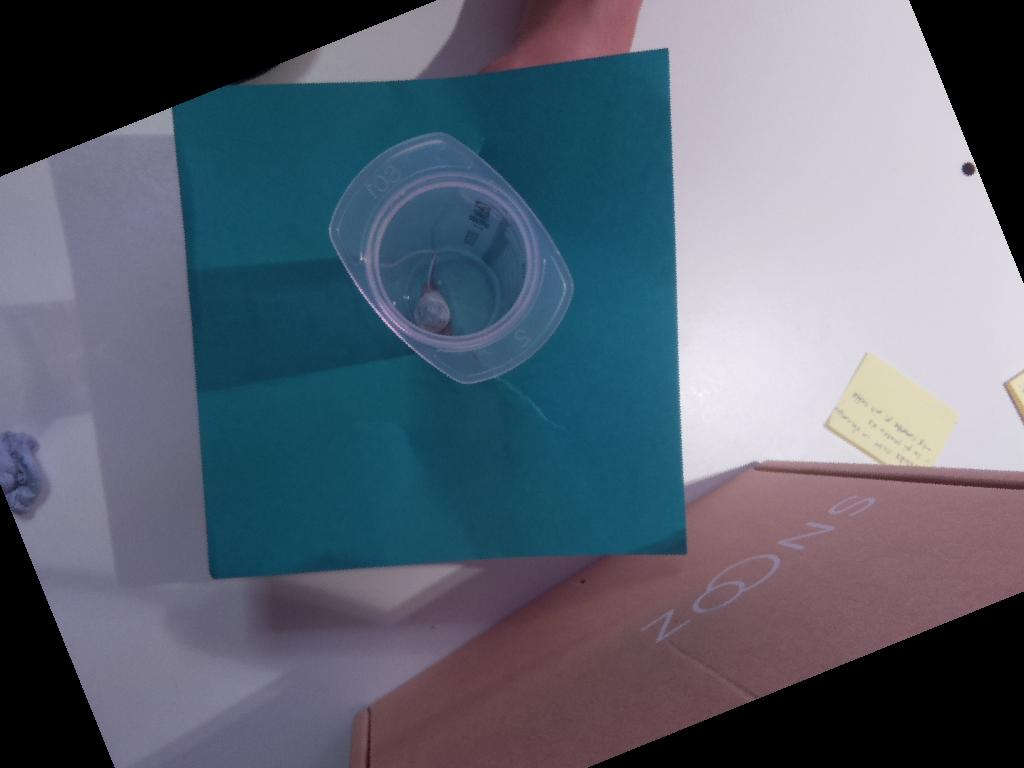clean: (328, 129, 574, 384)
